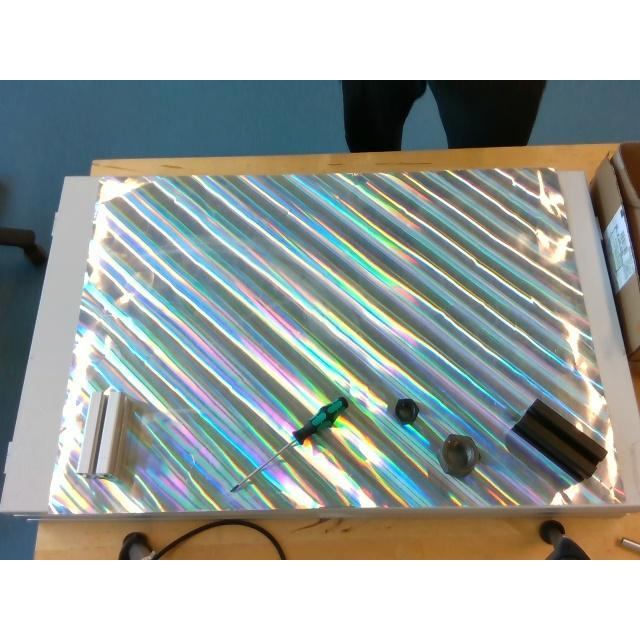M20: (394, 398, 418, 424)
M30: (440, 434, 478, 476)
S40_40_B: (512, 398, 606, 482)
S40_40_G: (78, 389, 130, 481)
Screwdriver: (230, 396, 348, 492)
